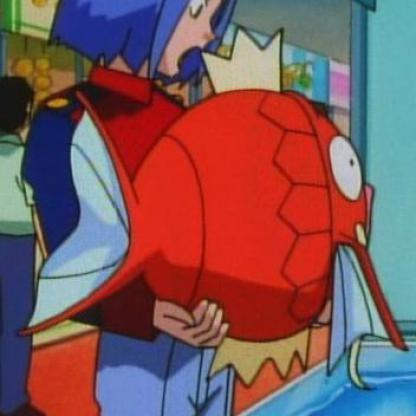Magikarp: (1, 1, 349, 393)
